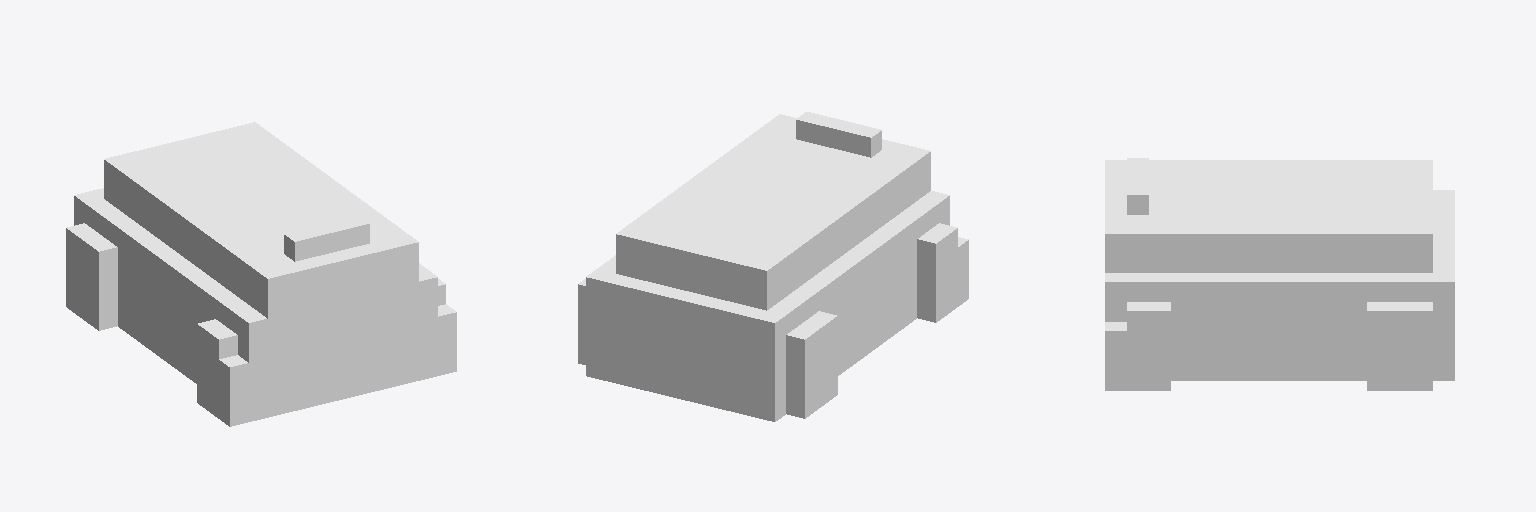
Rendered from pandaBD.obj.
3 views of the same model, side by side, from view 1: azimuth 30°, elevation 25°; view 2: azimuth 150°, elevation 25°; view 3: azimuth 270°, elevation 25° (orthographic).
Parts seen in each view (by area): view 1: object 1; view 2: object 1; view 3: object 1.
Boxes of the visible parts, <box> form: object 1: <box>66,122,456,426</box>; object 1: <box>578,112,968,421</box>; object 1: <box>1105,158,1454,390</box>.
Size of the model in its own units: 1.2 by 0.8 by 1.6.